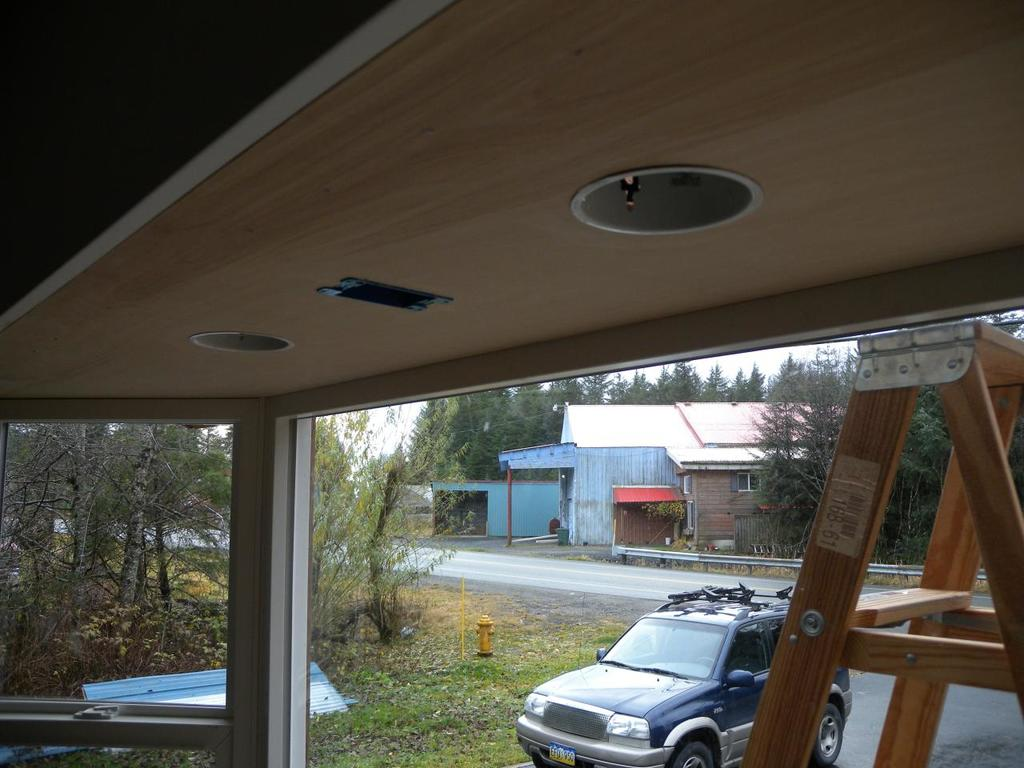Car: (515, 586, 850, 767)
